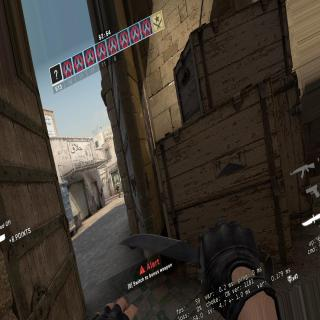CT-Body: (115, 182, 121, 198)
CT-Head: (117, 183, 119, 185)
